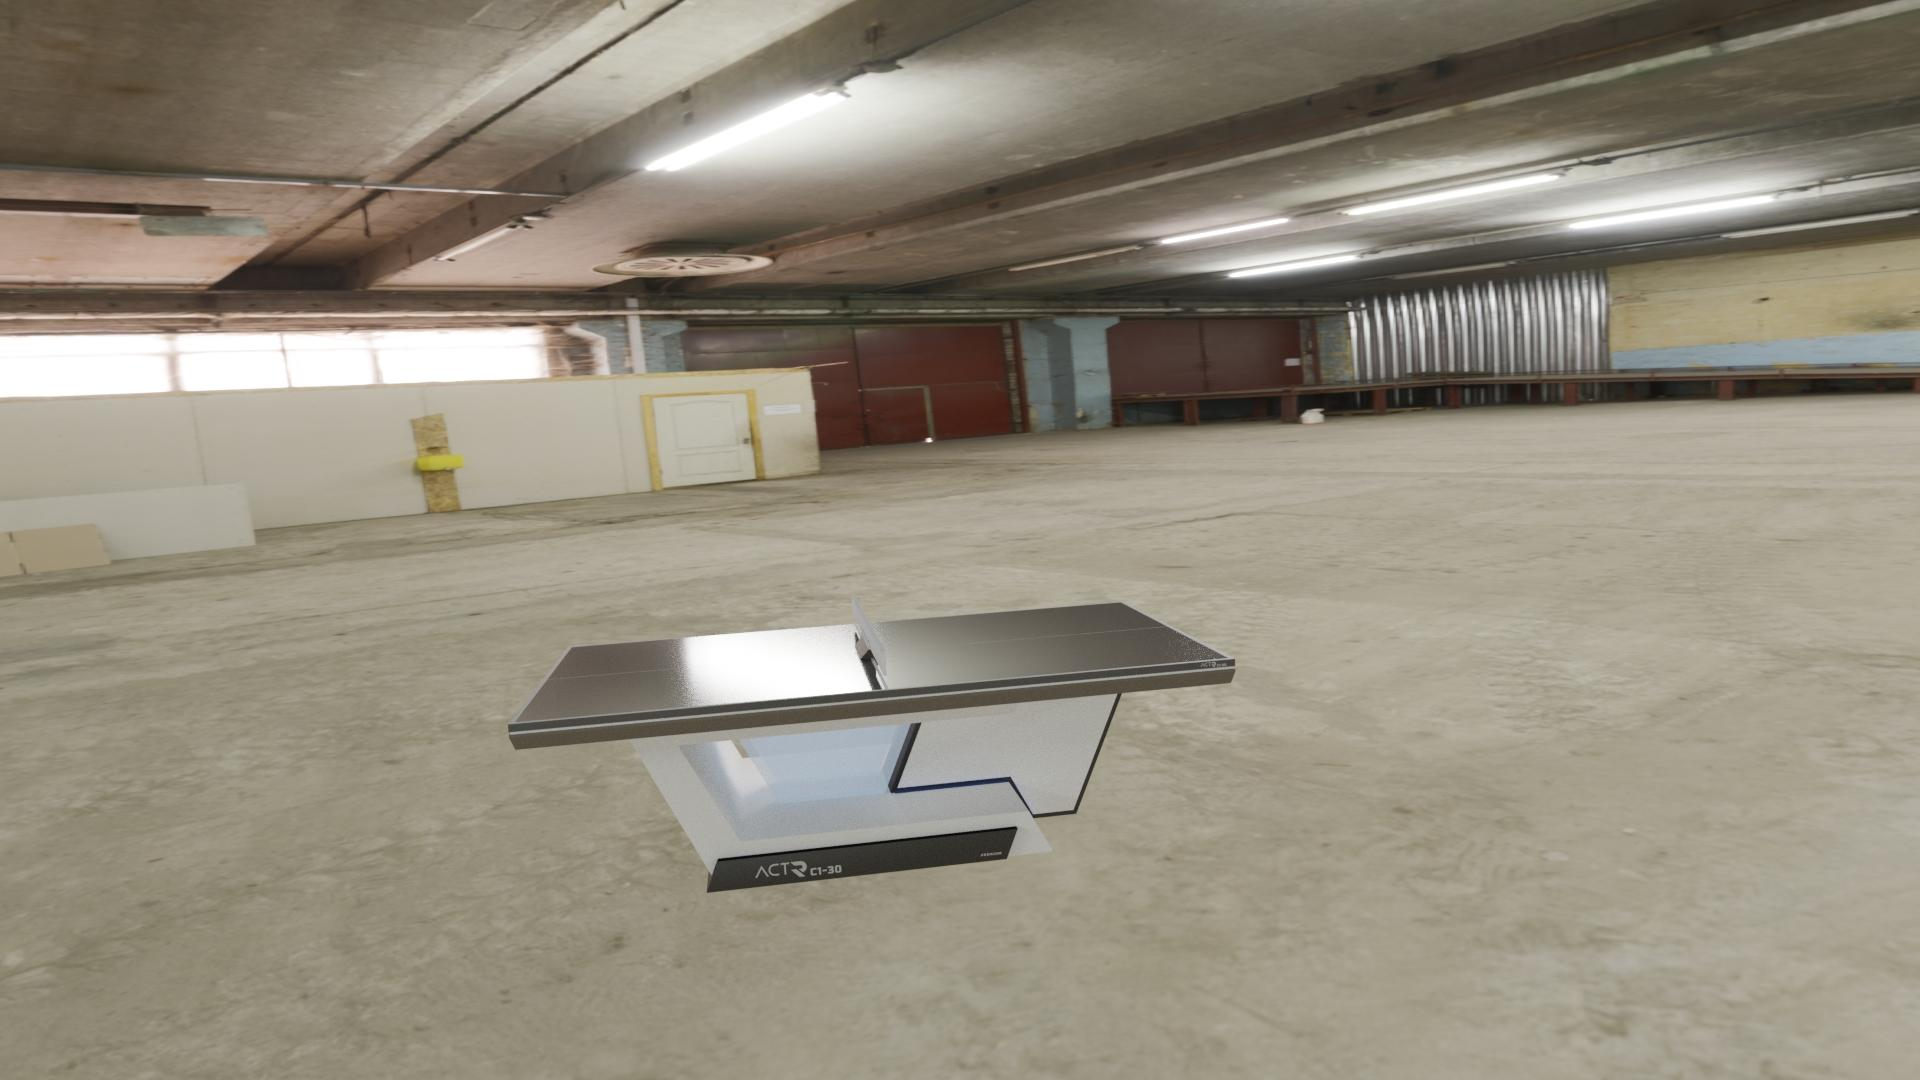table: (514, 603, 1229, 723)
